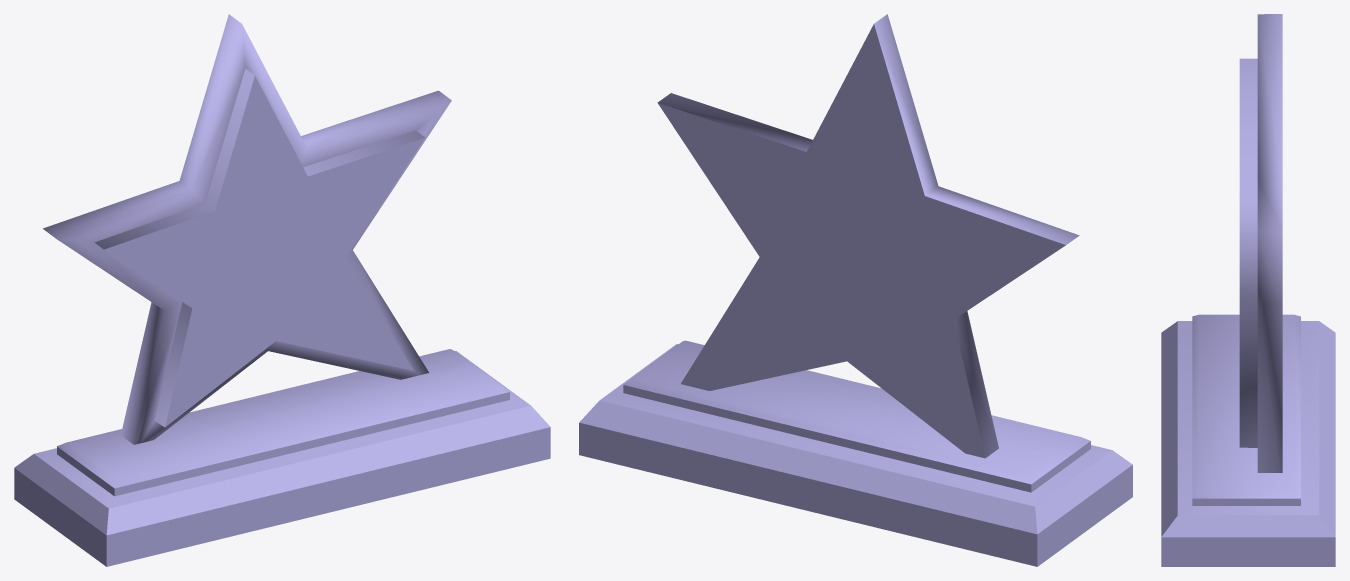
The model's file is Cup_06.fbx.
The picture shows the model from 3 angles, left to right: view 1: azimuth 30°, elevation 25°; view 2: azimuth 150°, elevation 25°; view 3: azimuth 270°, elevation 25°; orthographic projection. The views are drawn at different scales.
Visible parts, largest first — view 1: Cup_06; view 2: Cup_06; view 3: Cup_06.
Part boxes in pixels (x1=…): Cup_06: x1=14, y1=14, x2=550, y2=566; Cup_06: x1=579, y1=14, x2=1132, y2=566; Cup_06: x1=1161, y1=14, x2=1335, y2=566.
Size of the model in its own units: 32.39 by 32.08 by 11.68.
